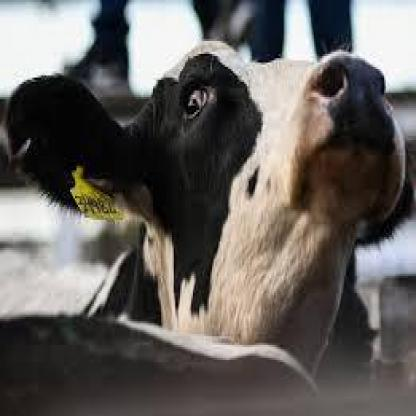cow: (6, 39, 408, 416)
